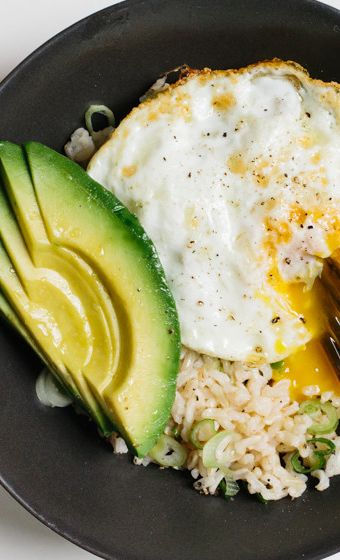fried egg: (99, 56, 340, 362)
plain rice: (174, 366, 340, 494)
